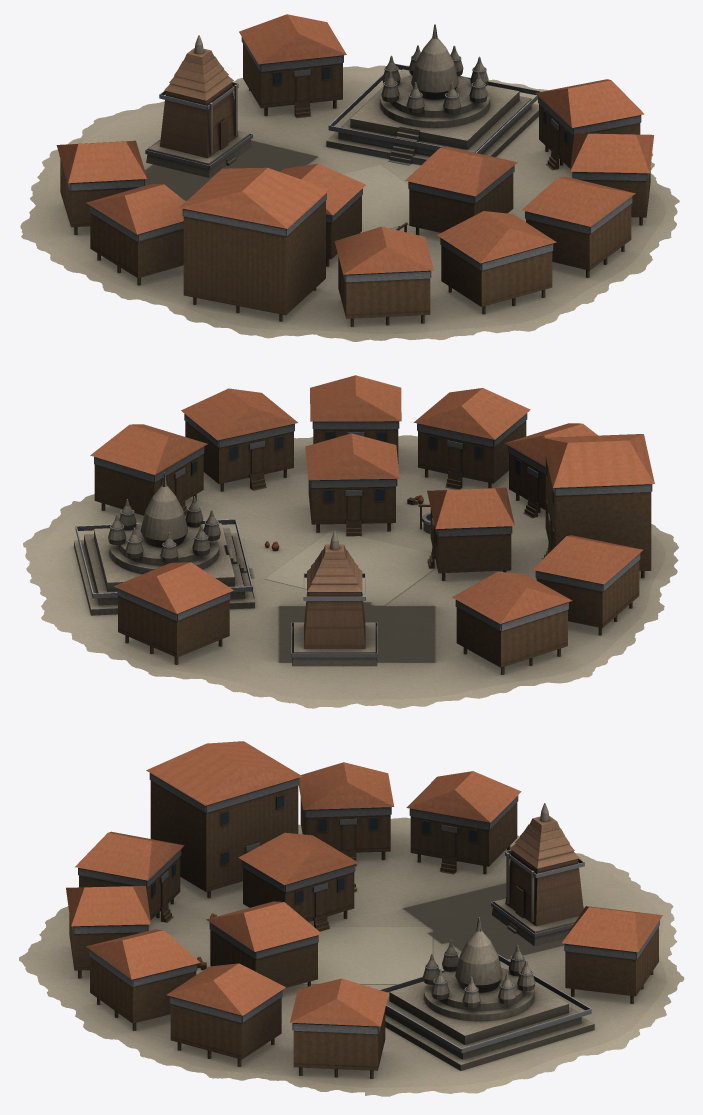
Rendered from classical-town-medium-a-monsoon.glb.
3 renders of one model, top to bottom at view 1: azimuth 30°, elevation 25°; view 2: azimuth 150°, elevation 25°; view 3: azimuth 270°, elevation 25°, orthographic.
Visible parts, largest first — view 1: LOD0; view 2: LOD0; view 3: LOD0.
Part boxes in pixels (<box>): LOD0: <box>20,14,679,341</box>; LOD0: <box>23,375,678,708</box>; LOD0: <box>19,741,684,1096</box>.
Size of what is drawn, in the model's own units: 5.98 by 1.2 by 5.98.
3 materials, 3 textured.
